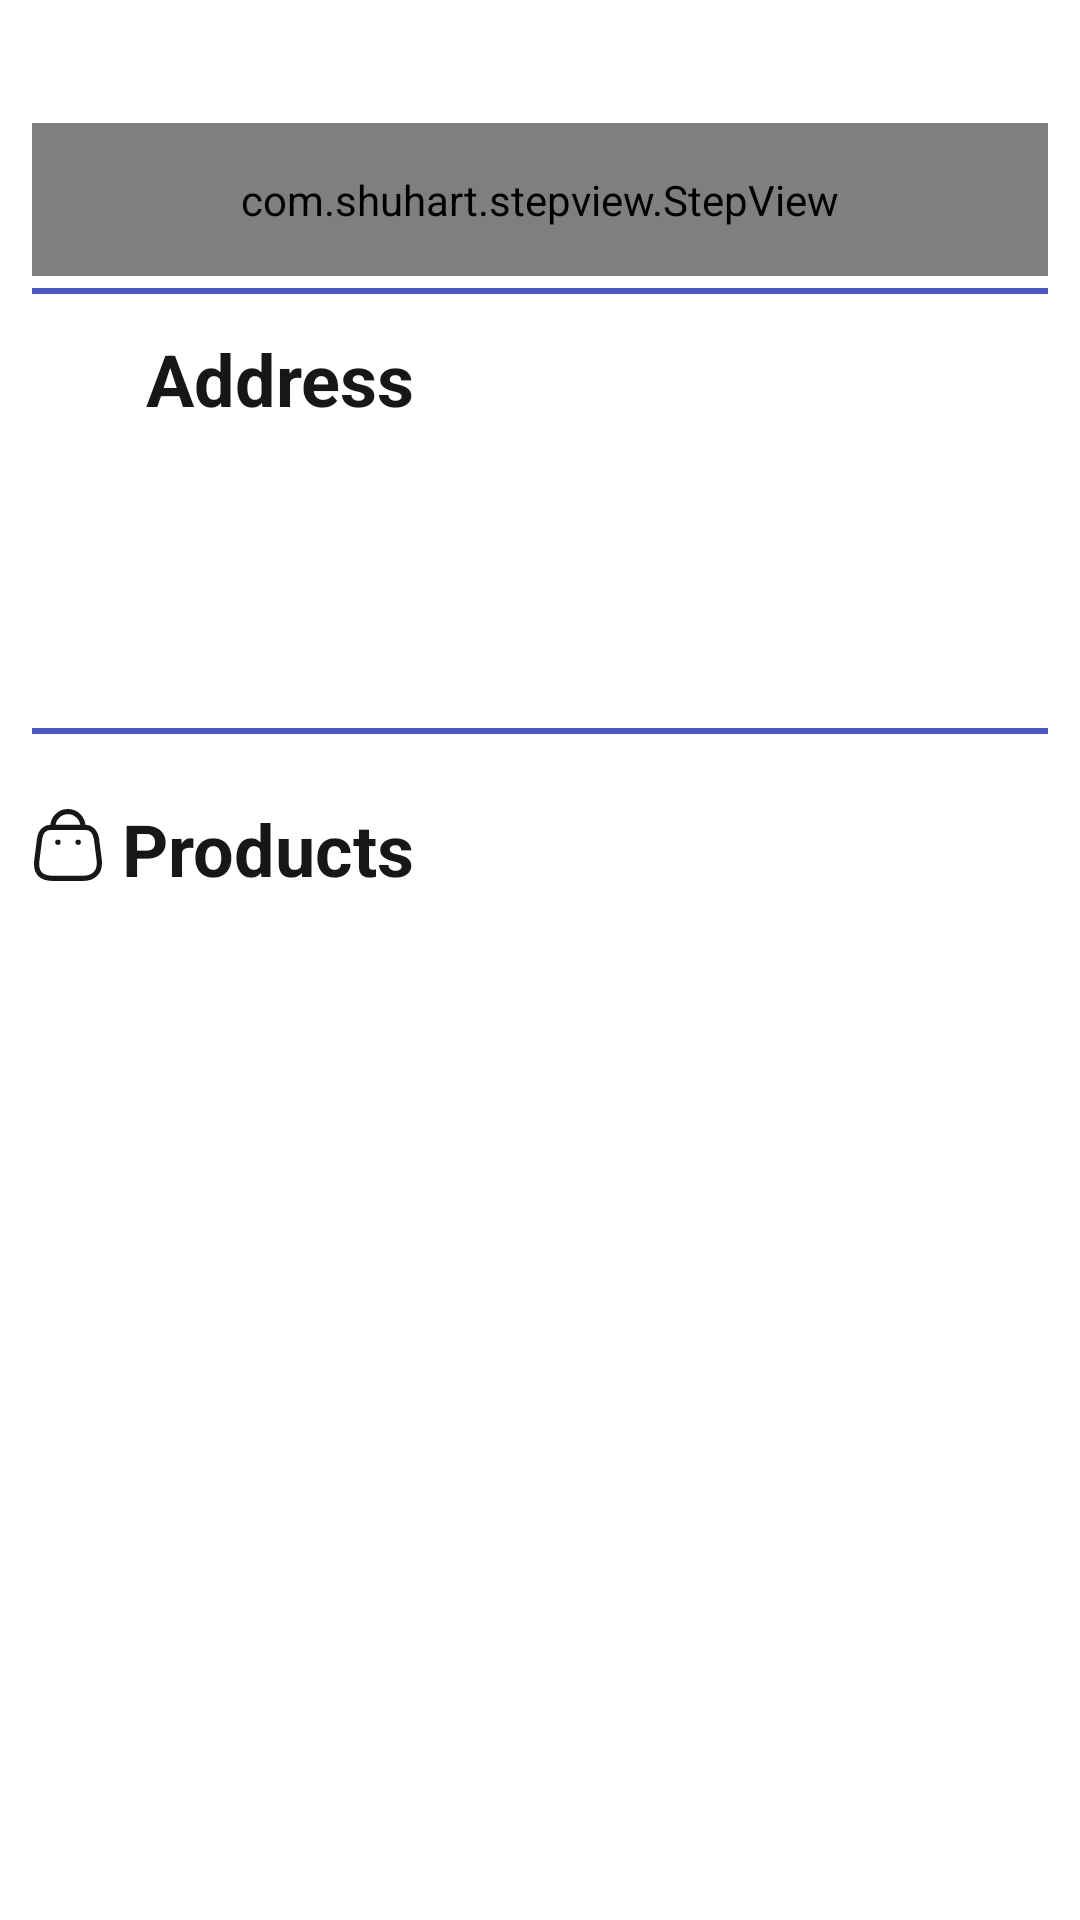

Icons on this 1080x1920 Android screen, each with its box as (x1, y1, x2, y2):
bag: (34, 809, 102, 881)
